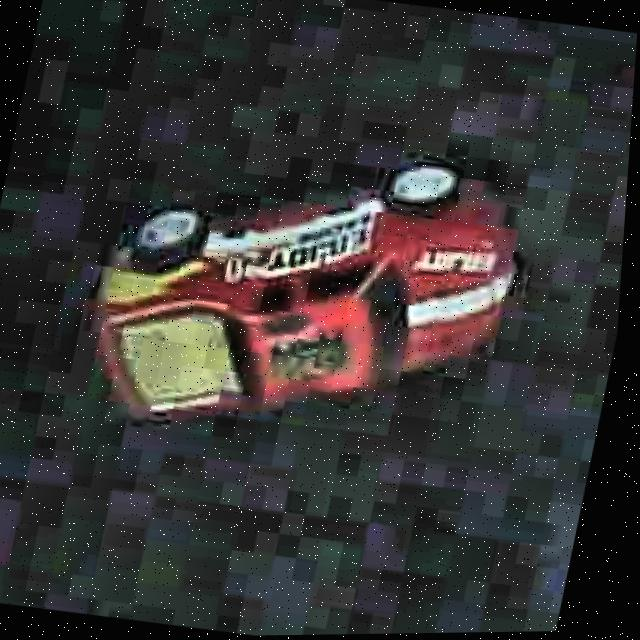car: (60, 108, 538, 472)
